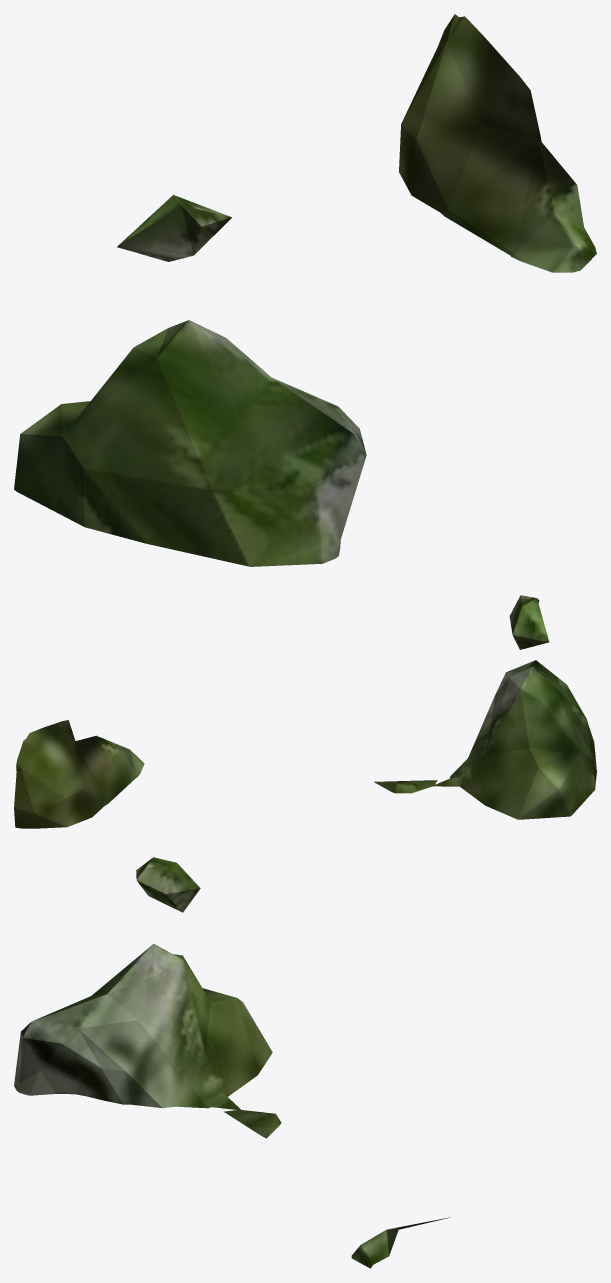
3 renders of one model, top to bottom at view 1: azimuth 30°, elevation 25°; view 2: azimuth 150°, elevation 25°; view 3: azimuth 270°, elevation 25°, orthographic. The views are drawn at different scales.
Size of the model in its own units: 0.4146 by 0.1738 by 0.4306.
1 material, 1 textured.
